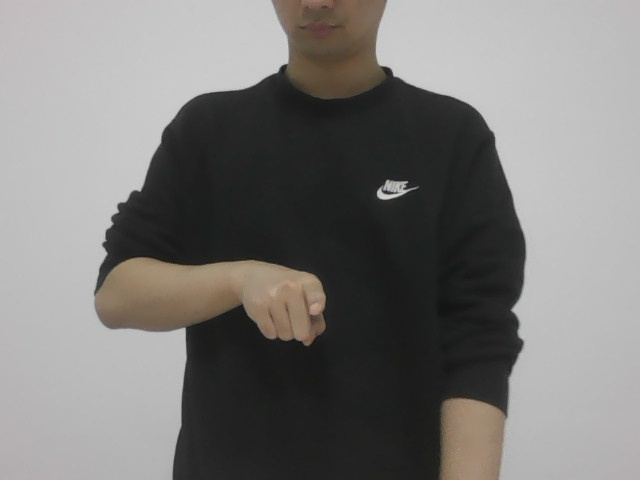you/your/this: (223, 249, 336, 353)
